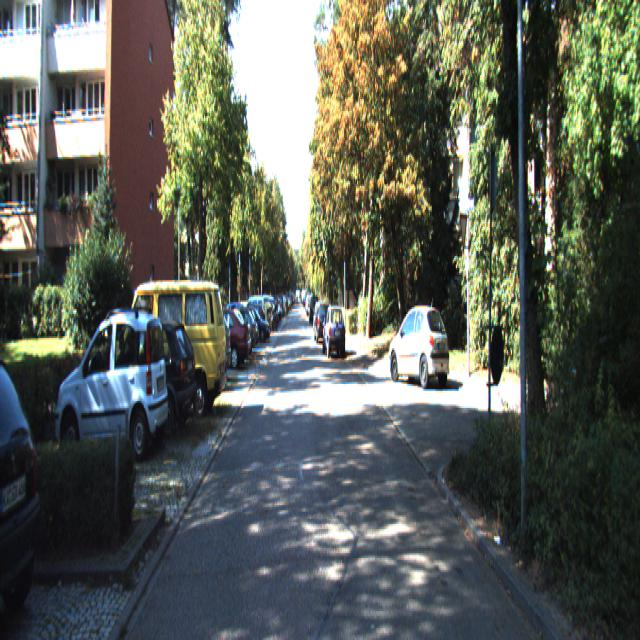Car: (57, 306, 171, 465), (0, 336, 52, 638), (124, 270, 228, 418), (96, 311, 198, 437), (388, 303, 452, 392), (196, 303, 252, 366), (322, 306, 346, 360)
